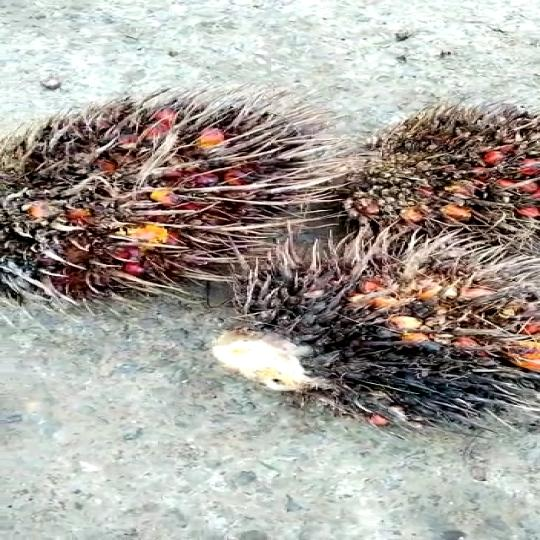terlalu masak: (0, 93, 343, 304), (217, 227, 540, 428), (308, 129, 540, 232)
